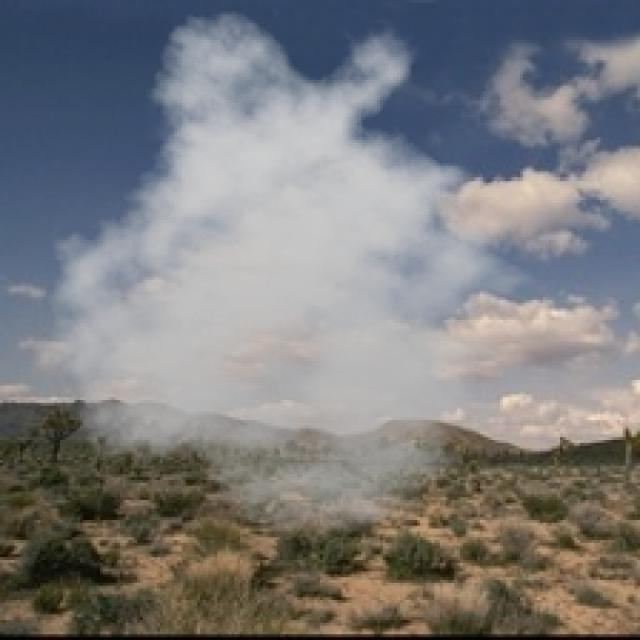smoke: (20, 9, 557, 534)
